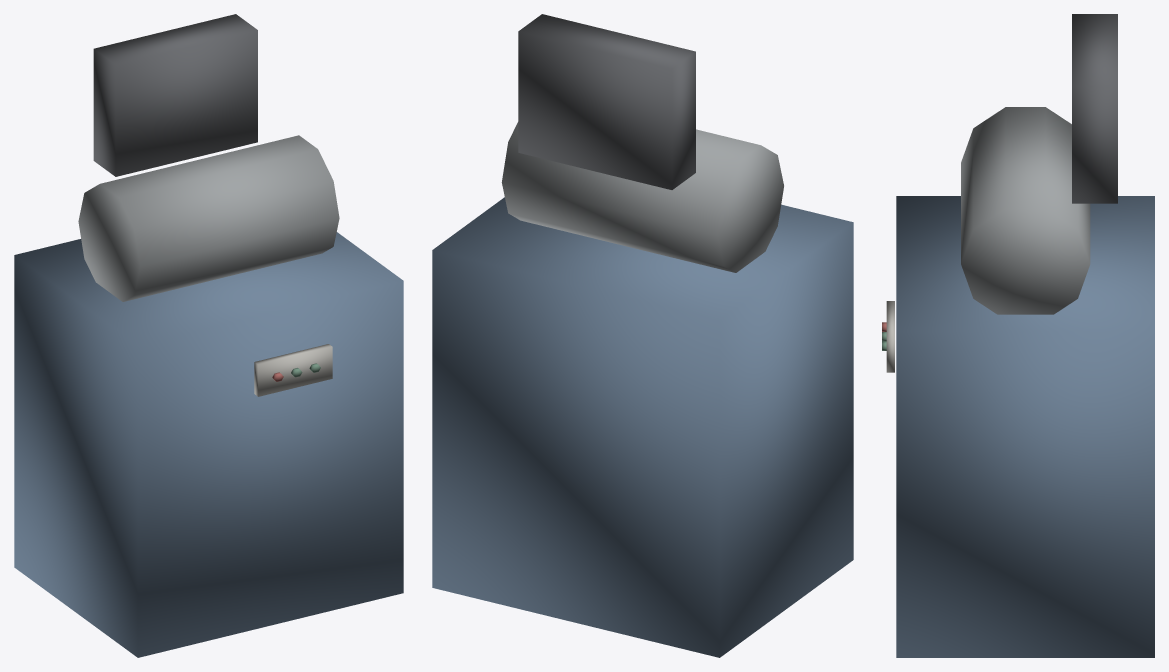
Rendered from tire_changer__wide.glb.
3 views of the same model, side by side, from view 1: azimuth 30°, elevation 25°; view 2: azimuth 150°, elevation 25°; view 3: azimuth 270°, elevation 25° (orthographic). The views are drawn at different scales.
Parts seen in each view (by area): view 1: world; view 2: world; view 3: world.
Part boxes in pixels (<box>): world: <box>14,14,403,657</box>; world: <box>432,14,853,657</box>; world: <box>882,14,1154,657</box>.
Size of the model in its own units: 0.6944 by 1.29 by 0.591.
